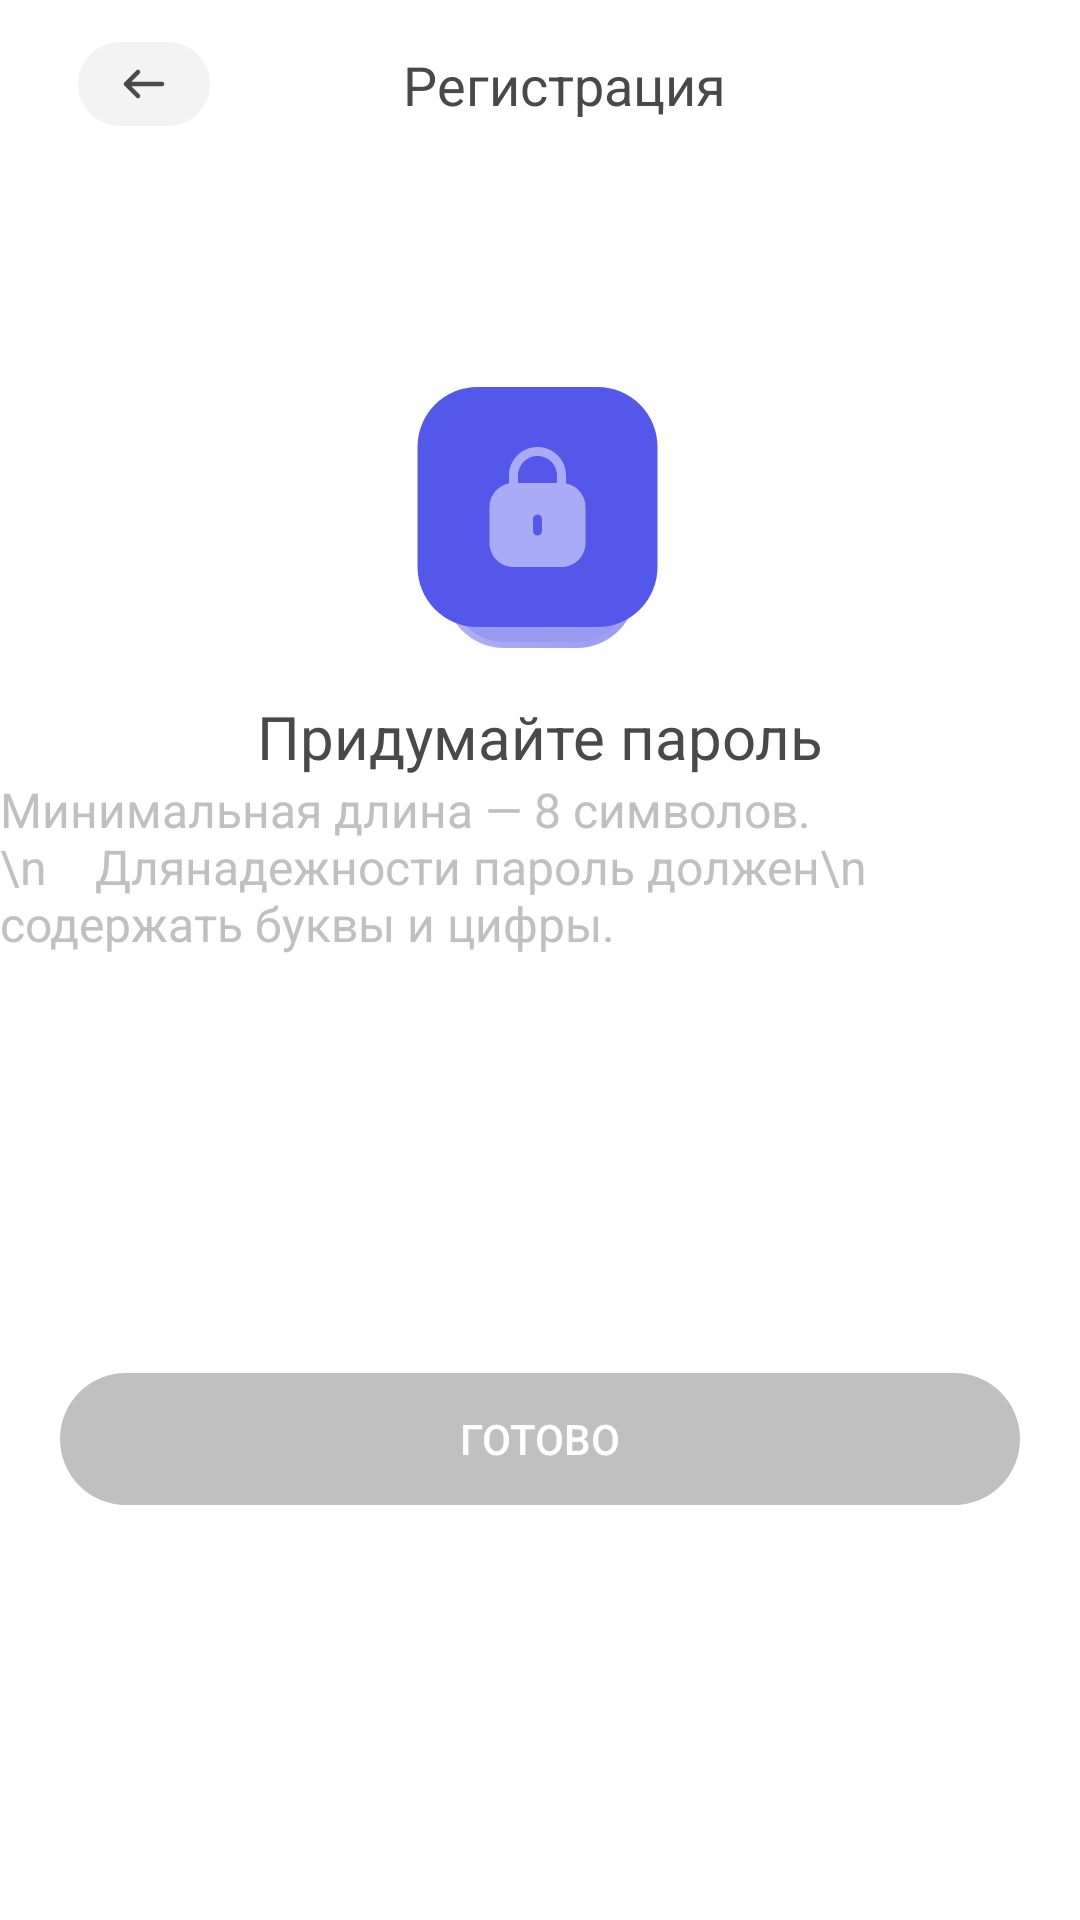

Icon click points for this 1080w x 1920h phone screenshot, format [x,y]:
arrowback: [144,84]
